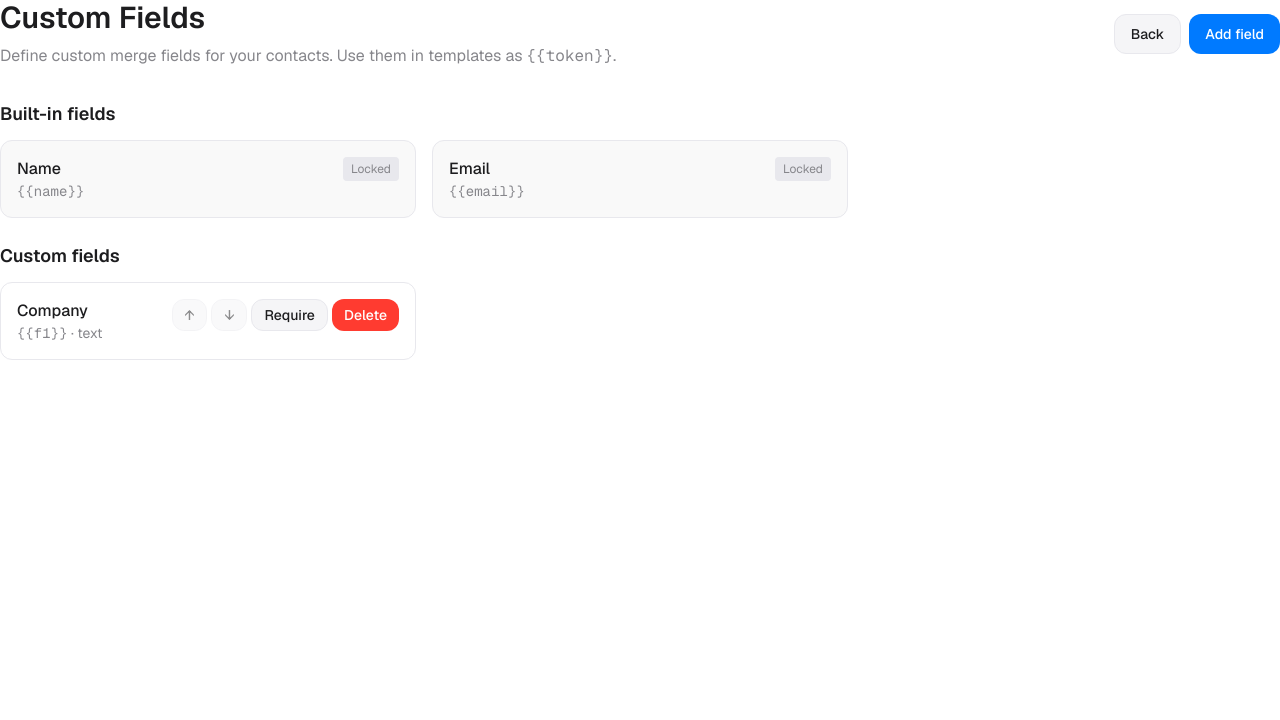
Scenario: CustomFieldsPage real-time refresh › reloads the list immediately after a successful delete
This screenshot has width=1280, height=720.
Expected: the text "Company" is shown, x1=17 y1=300 x2=88 y2=321
Step 1. Click the button "Delete" → [365, 315], box x1=332 y1=299 x2=399 y2=331
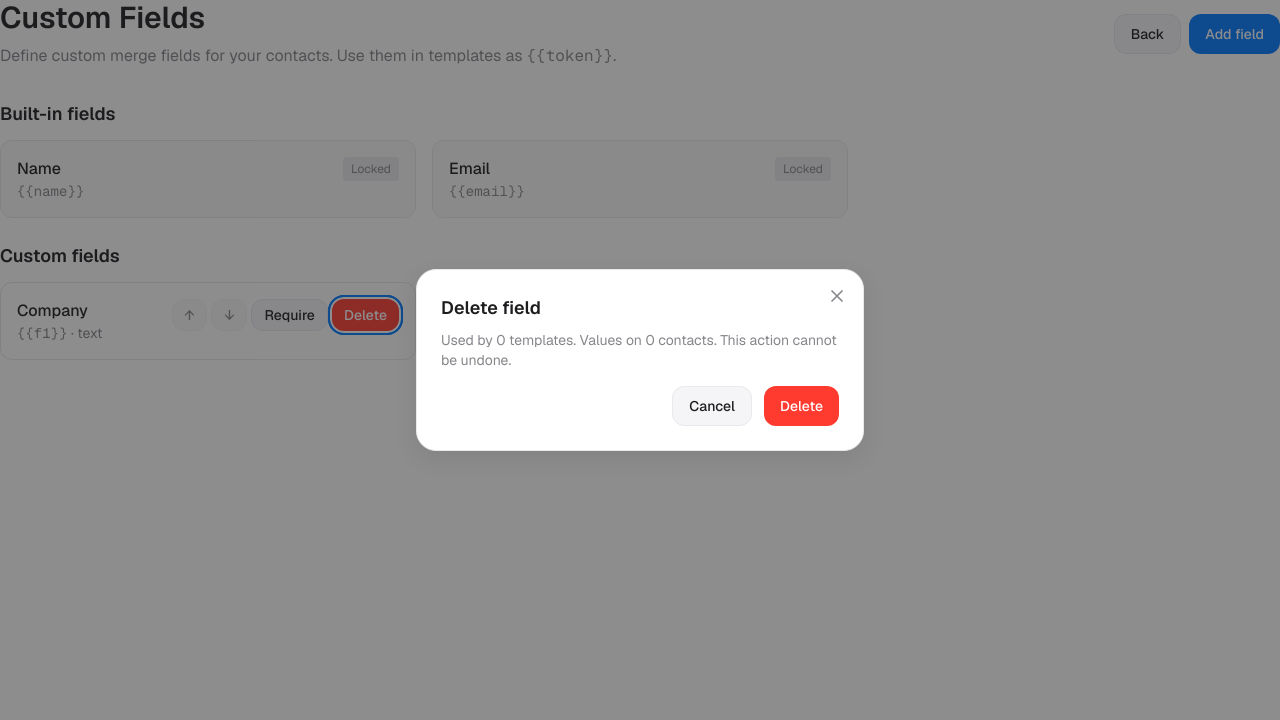
Step 2. Click the button "Delete" → [801, 406], box x1=764 y1=386 x2=839 y2=426
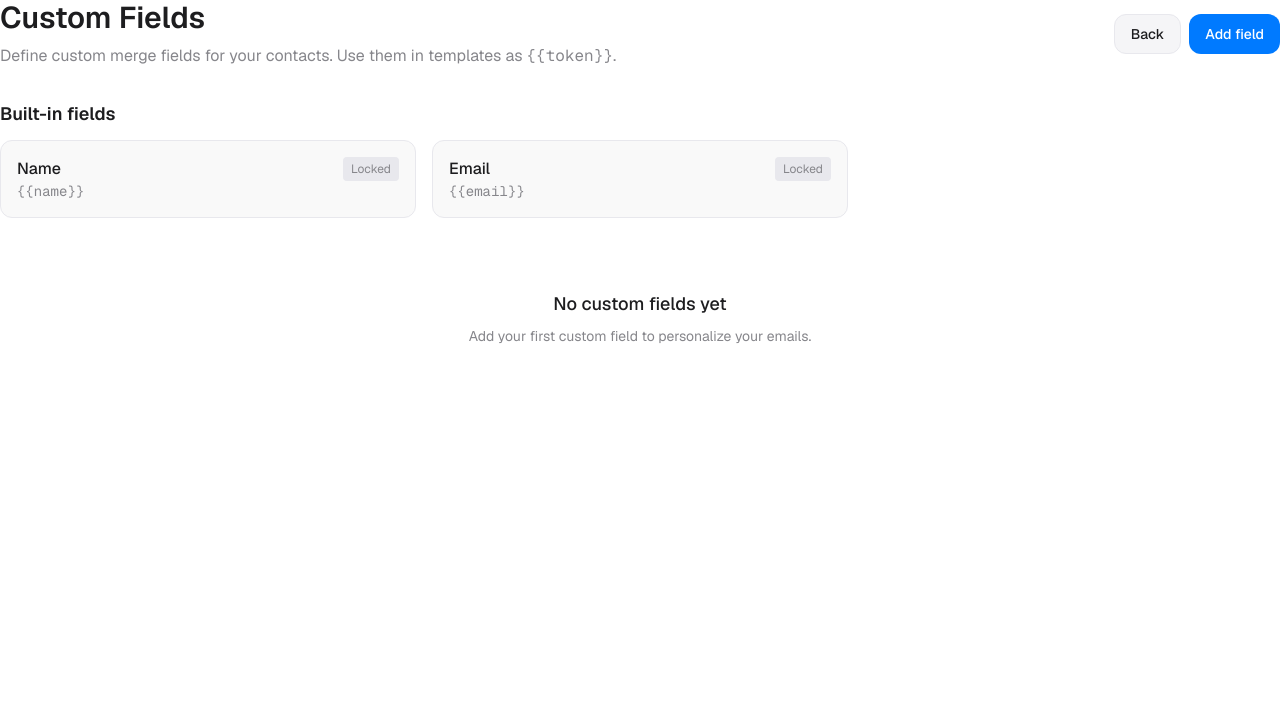
Now the text "No custom fields yet" is shown, box x1=553 y1=290 x2=727 y2=318
